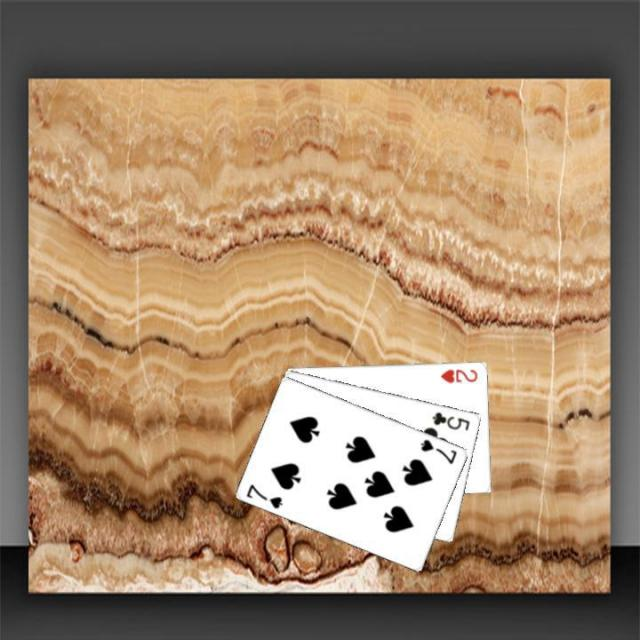2H: (436, 364, 480, 384)
5C: (428, 408, 472, 432)
7S: (417, 436, 459, 466), (242, 480, 284, 510)
